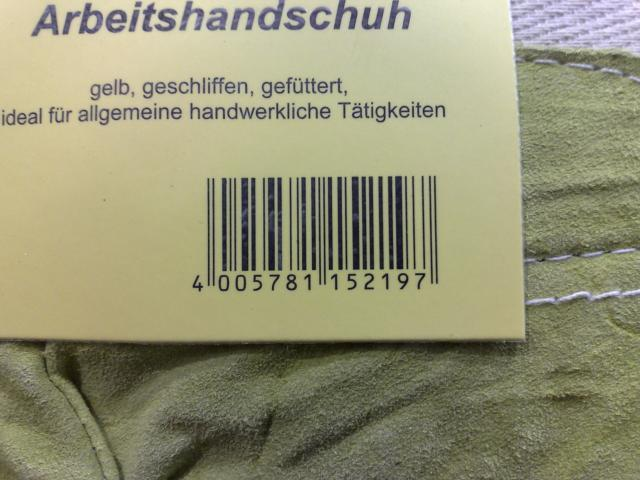Barcode: (180, 165, 455, 308)
